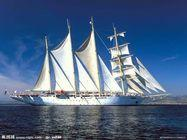fanchuan: (3, 17, 171, 109)
